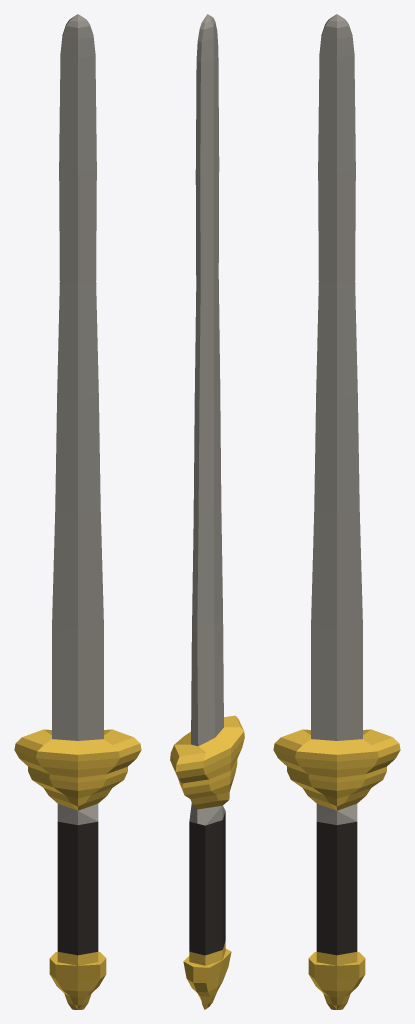
The model's file is Sword.fbx.
3 renders of one model, left to right at view 1: azimuth 90°, elevation 25°; view 2: azimuth 150°, elevation 25°; view 3: azimuth 270°, elevation 25°, orthographic.
Visible parts, largest first — view 1: Cube; view 2: Cube; view 3: Cube.
Boxes of the visible parts, x1=… form: Cube: x1=14, y1=14, x2=141, y2=1009; Cube: x1=170, y1=14, x2=244, y2=1009; Cube: x1=273, y1=14, x2=400, y2=1009.
Size of the model in its own units: 30.24 by 609 by 70.52.
